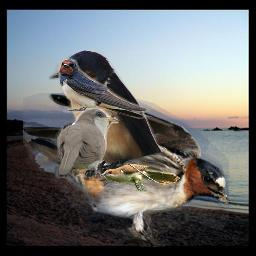Cuckoo: (54, 108, 119, 179), (100, 164, 180, 192)
Swallow: (23, 93, 229, 247), (49, 49, 164, 181), (58, 57, 174, 127)
